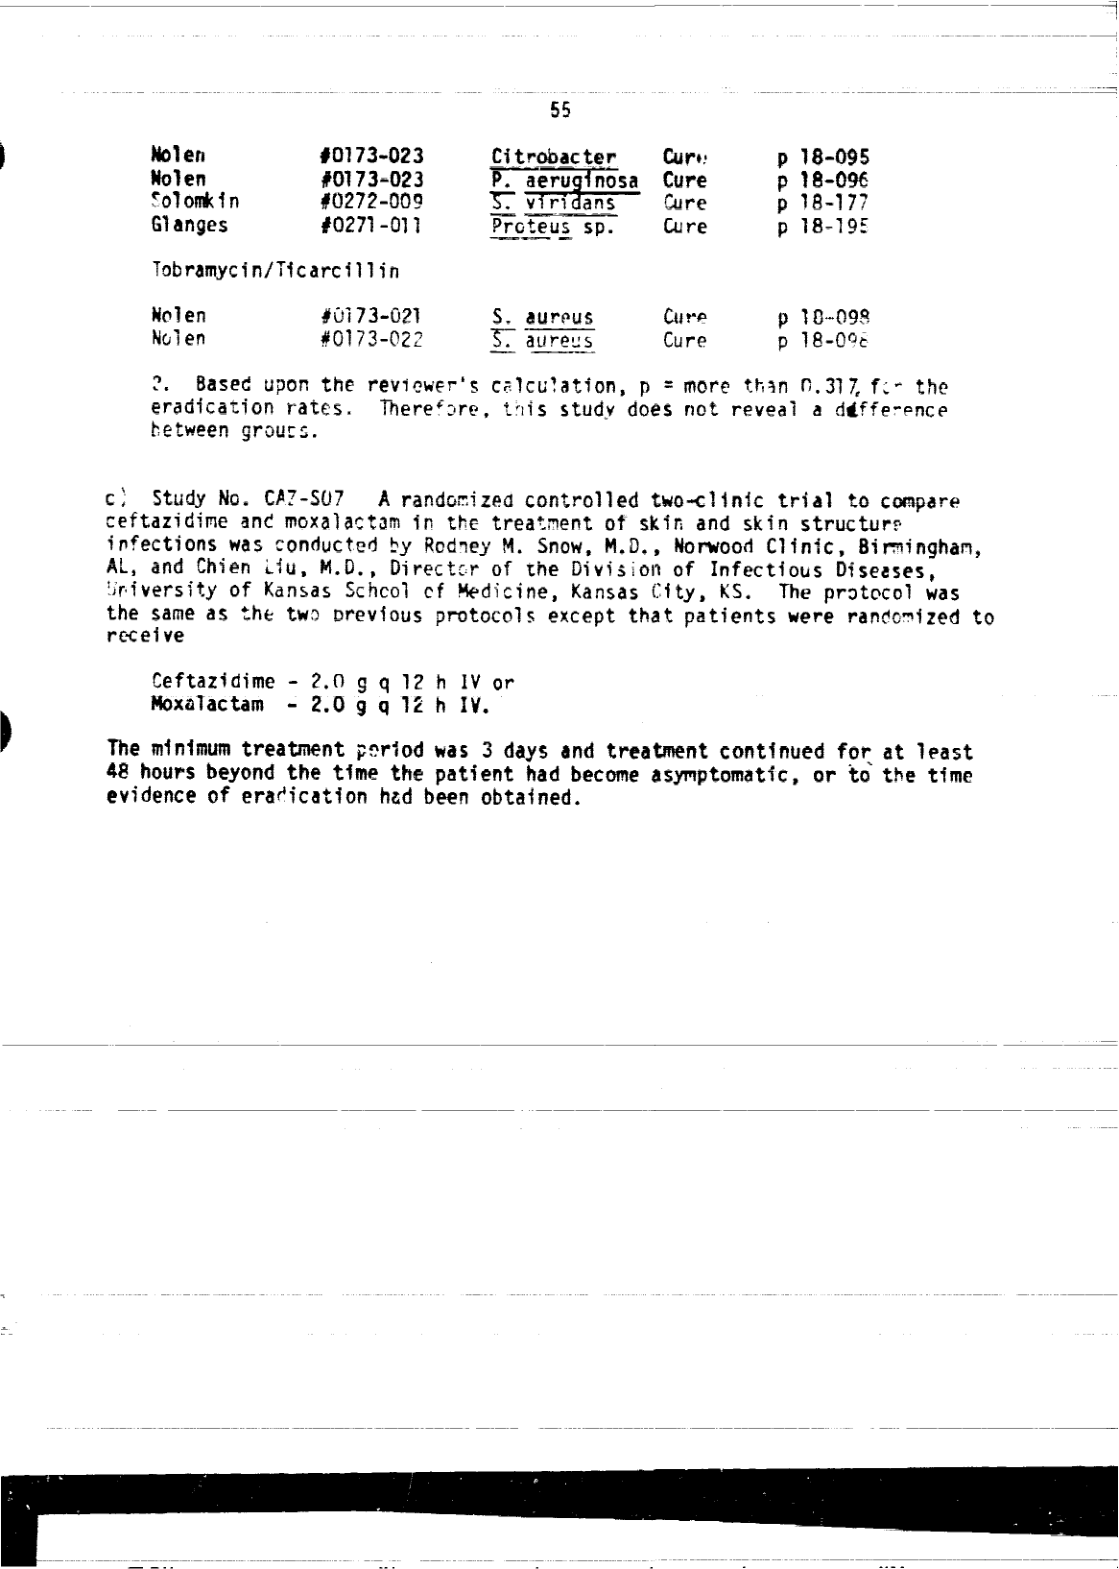nolines: (147, 140, 870, 241), (147, 301, 876, 354)
